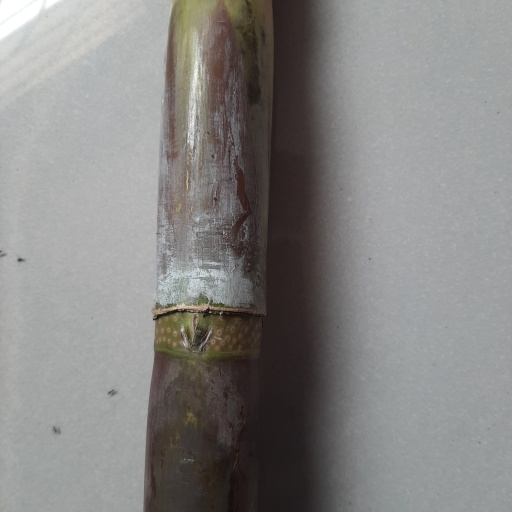Bud: (183, 315, 212, 349)
